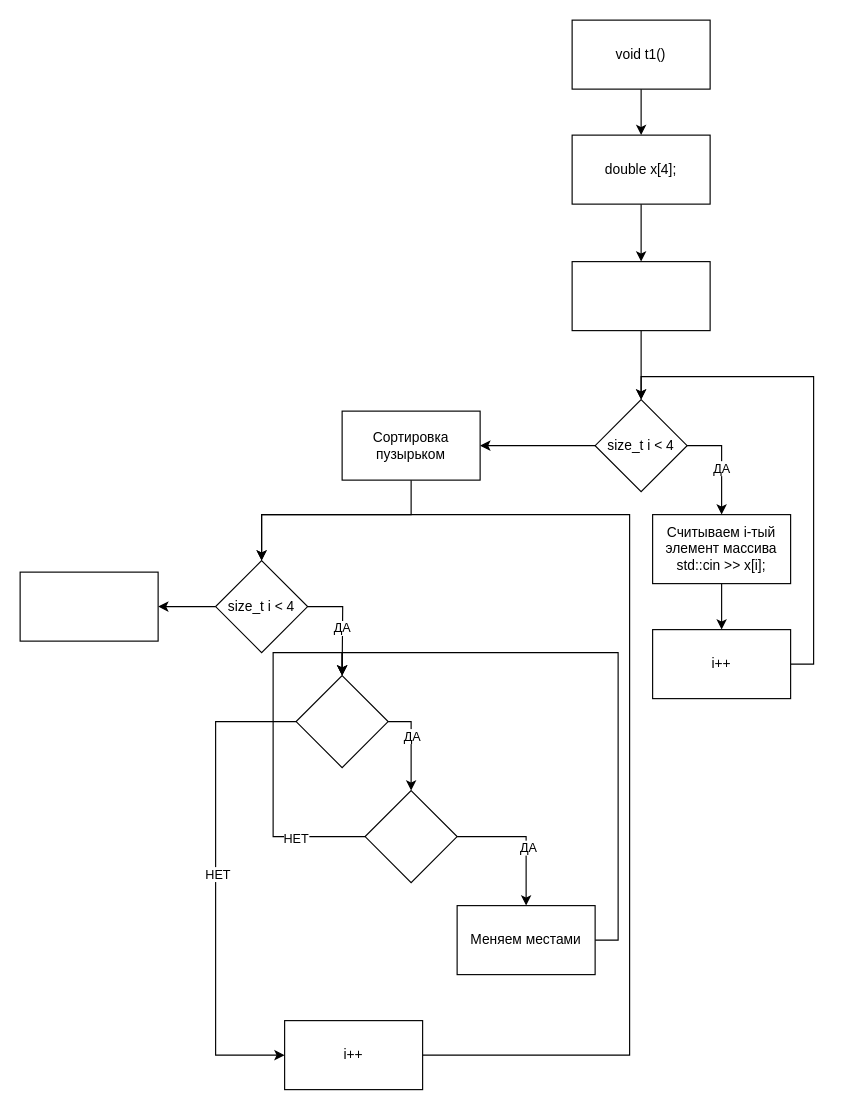
This 843x1110 diagram has some shape labels left out. The centre of each missing label's shape, as x and y in pixels:
"size_t j < 3" belongs at (341,721).
"x[j] < x[j+1]" belongs at (410,836).
"Ввод данных" belongs at (640,295).
"Выводим первые 2 элемента" belongs at (88,606).
